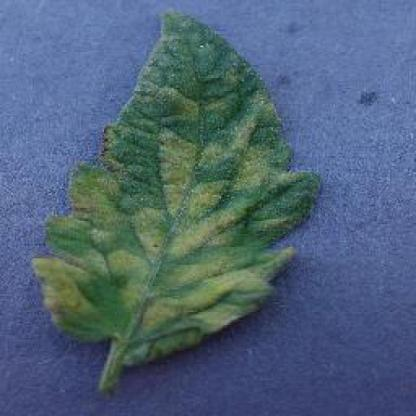Tomato_Leaf_Mold: (39, 12, 322, 352)
